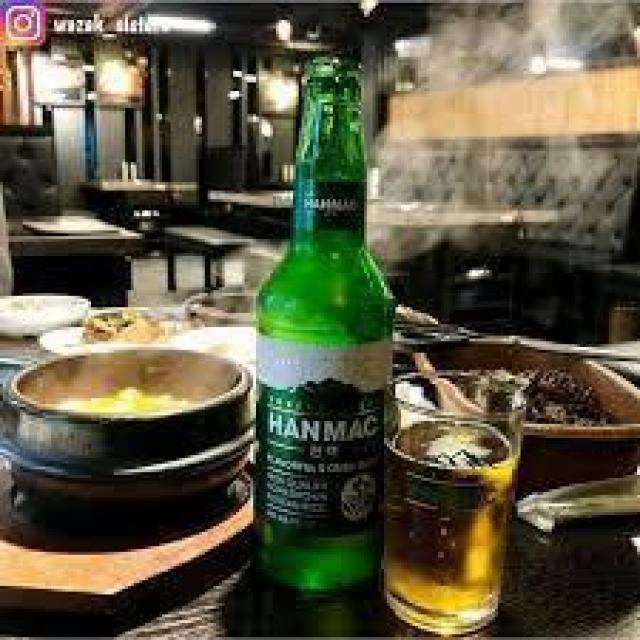beer-bottle: (250, 56, 401, 602)
